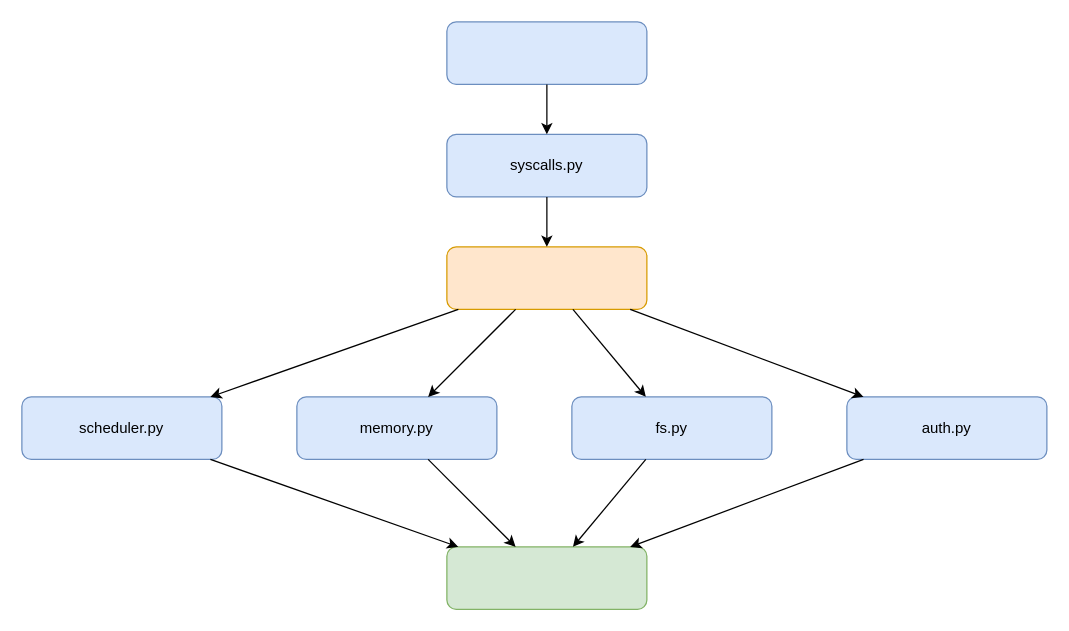
The diagram is 1069 pixels wide and 631 high, and some of its shapes have lost their labels. Here are the shapes that lost their labels. From the top down, the box of each, then its label:
(446, 21, 647, 84): shell.py
(446, 246, 647, 309): kernel.py
(446, 546, 647, 609): db.py
